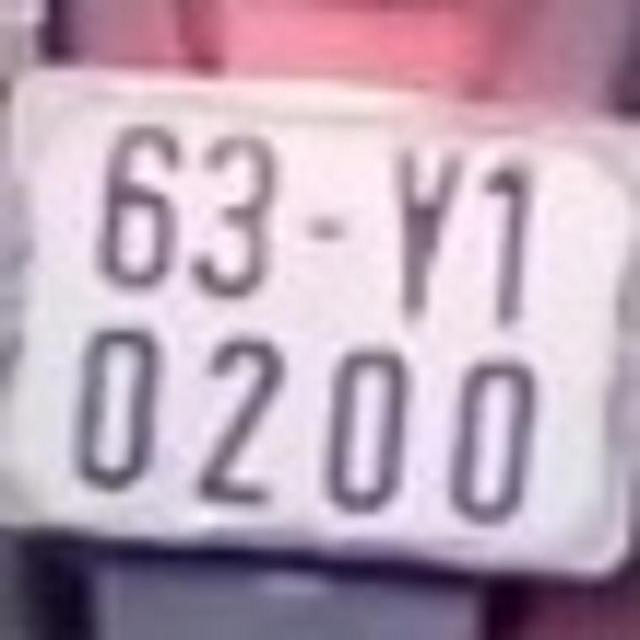0: (315, 335, 413, 510), (446, 343, 538, 528), (72, 318, 158, 491)
1: (474, 144, 540, 332)
2: (192, 322, 290, 514)
3: (188, 121, 288, 305)
6: (90, 113, 185, 296)
Y: (380, 138, 470, 324)
